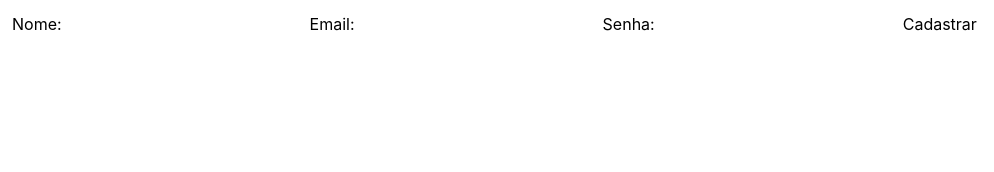
Test the Login page › The register button › should be activated with valid email & valid password
Type "Teste Teste Teste Teste" into the field labelled "Nome:" at (186, 24), box [62,12,310,36]
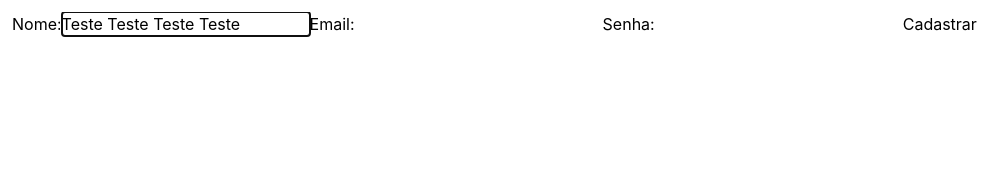
Type "test@test.com" into the field labelled "Email:" at (479, 24), box [355,12,603,36]
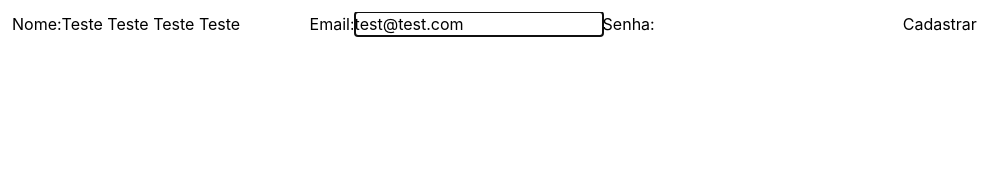
Type "12345678" into the password field labelled "Senha:" at (779, 24), box [655,12,903,36]
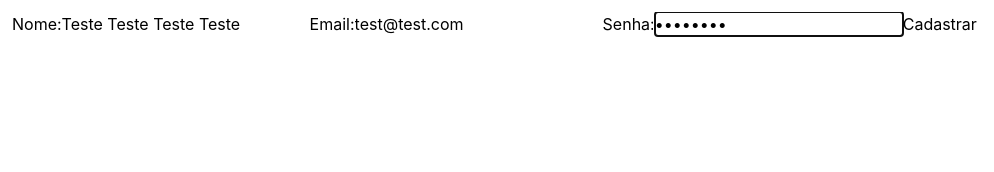
Expected: the button "Cadastrar" is enabled, [903,12,977,36]
